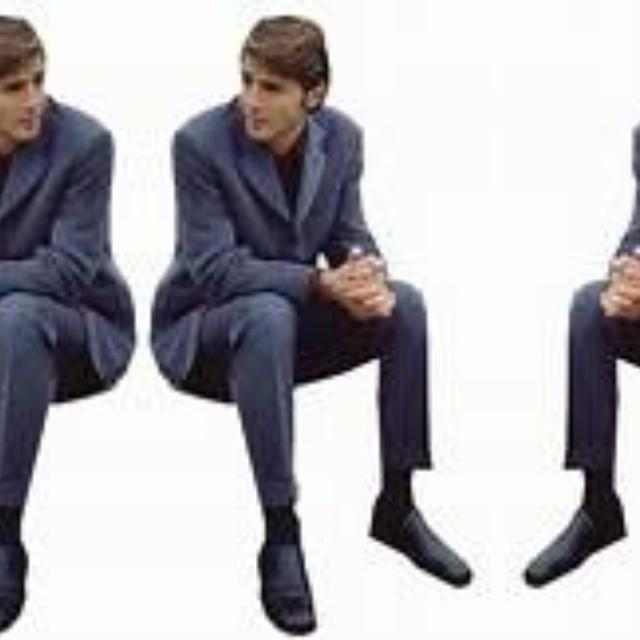person: (150, 20, 498, 640), (497, 20, 640, 640), (0, 20, 133, 640)
